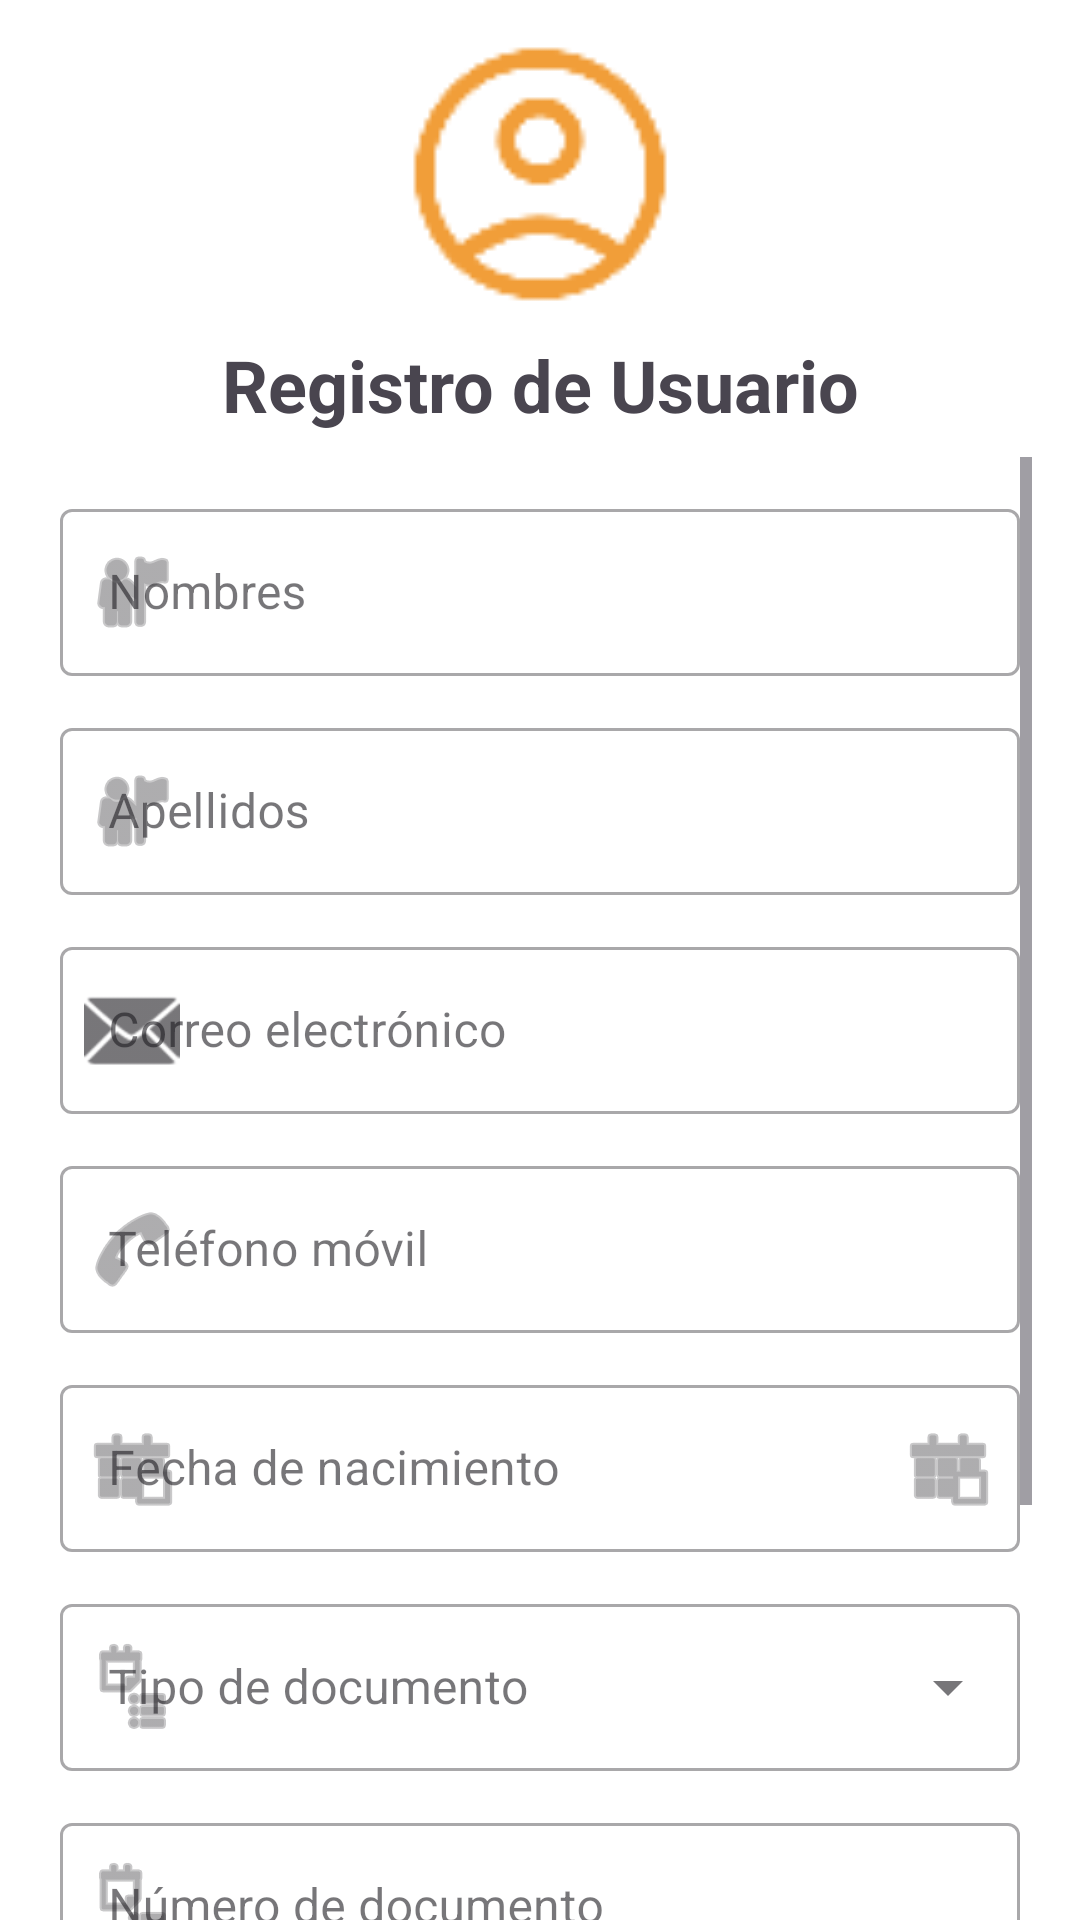

Icons on this 1080 x 1920 Android screen, each with the point to tap as (x,y):
Foto de perfil: (540,174)
